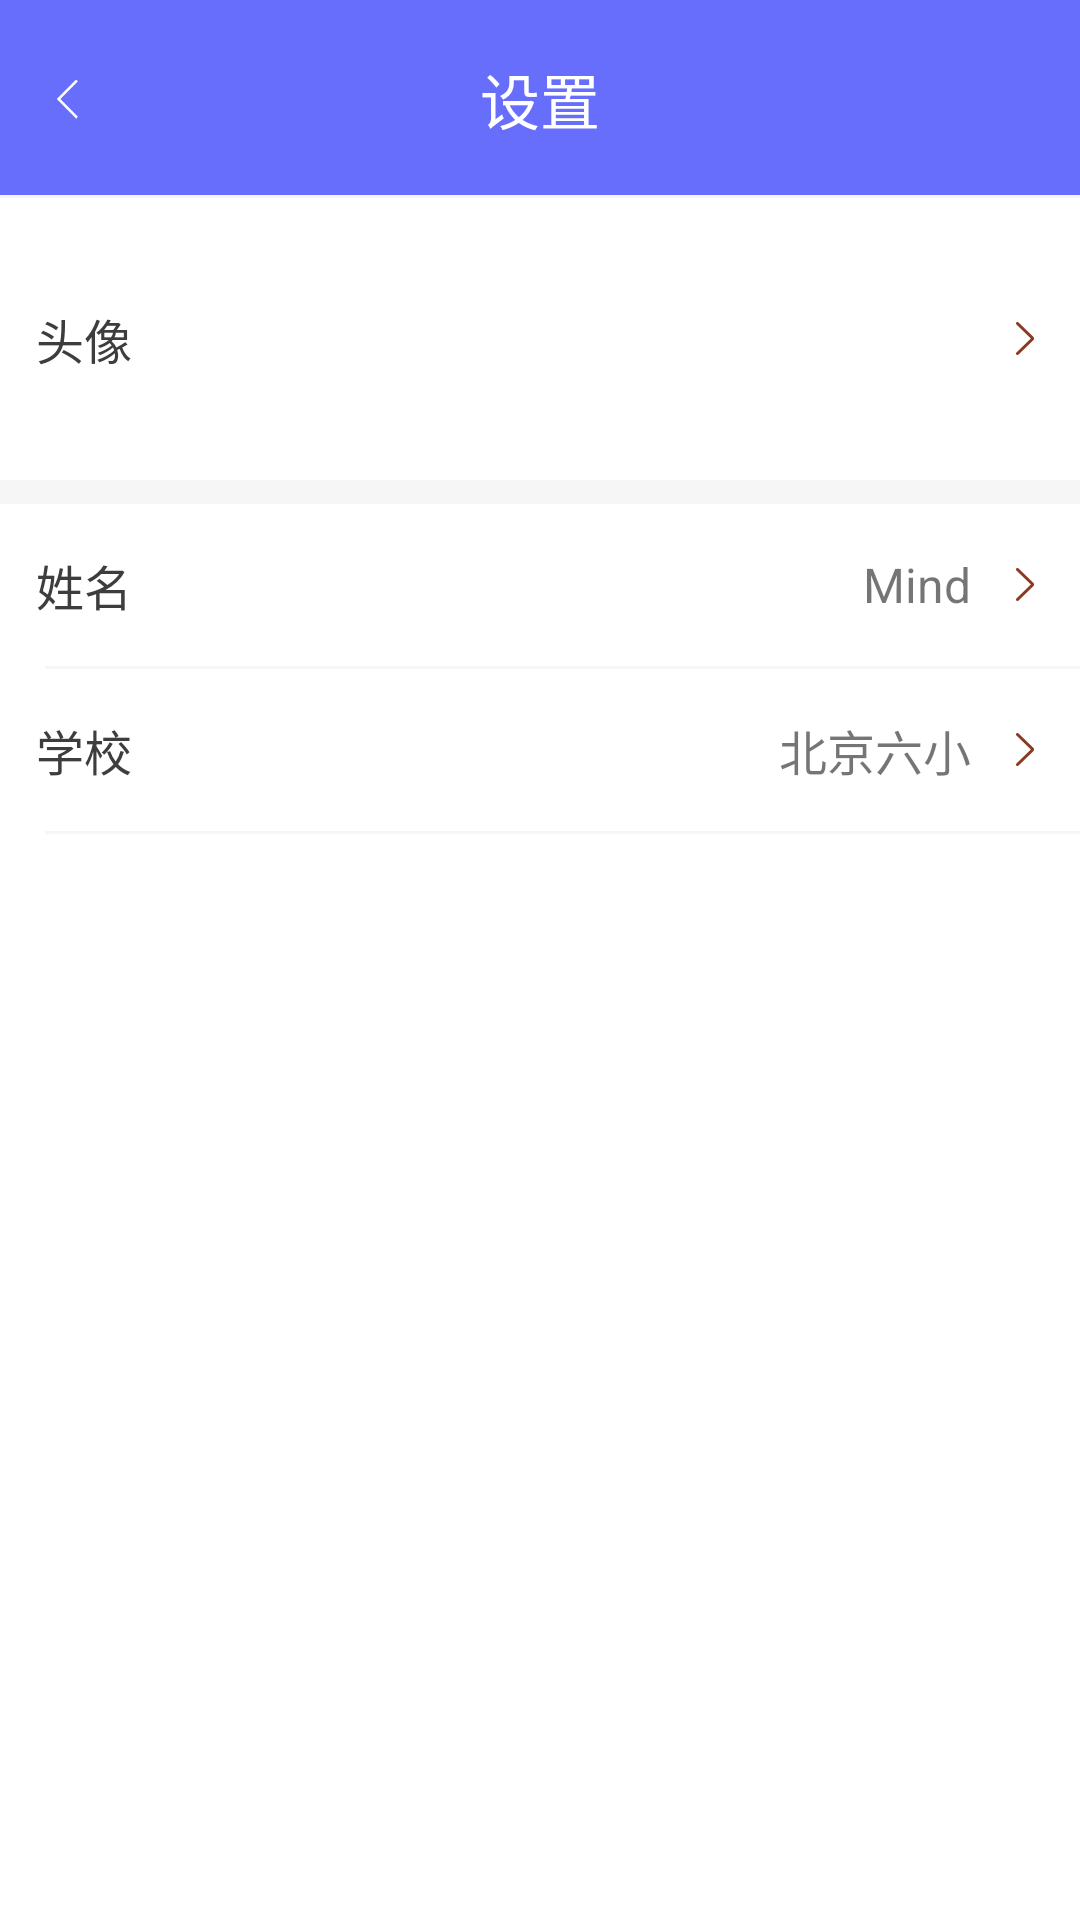

Screen size 1080*1920. Icon name, then its box in pixels as {"x1": x1, "y1": y1, "x2": x2, "y2": y2}:
fanhui: {"x1": 57, "y1": 80, "x2": 78, "y2": 119}
